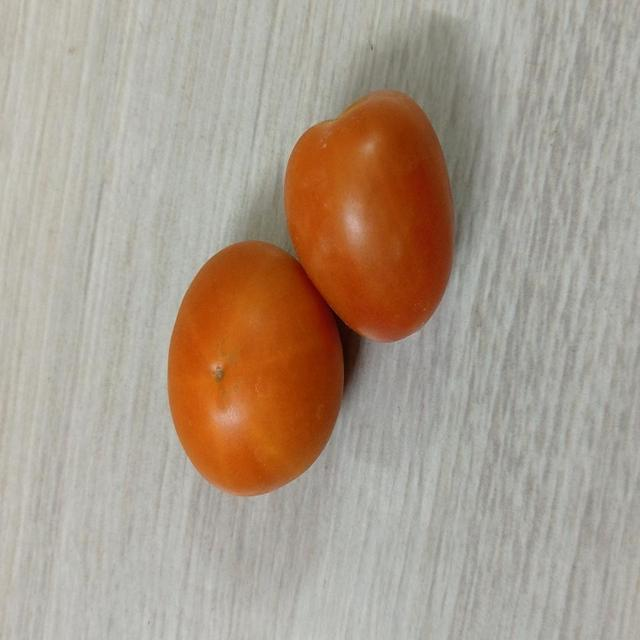Healthy Fruit: (119, 144, 246, 245)
